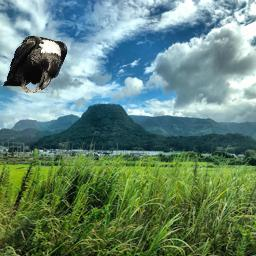Crow: (0, 34, 68, 95)
